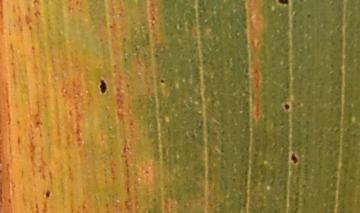tarspot: (97, 78, 108, 95), (290, 151, 299, 165), (276, 1, 289, 7), (282, 102, 290, 111), (44, 190, 52, 199), (33, 10, 41, 19), (143, 168, 150, 177), (150, 14, 157, 23), (124, 81, 131, 89), (32, 1, 40, 8), (305, 12, 312, 20), (29, 43, 36, 51), (158, 78, 165, 85), (328, 62, 335, 69), (33, 119, 39, 127), (128, 120, 134, 128), (122, 56, 128, 64), (26, 24, 32, 32), (121, 36, 127, 43), (153, 53, 160, 59), (133, 46, 139, 52), (108, 24, 112, 29), (297, 1, 305, 3)
